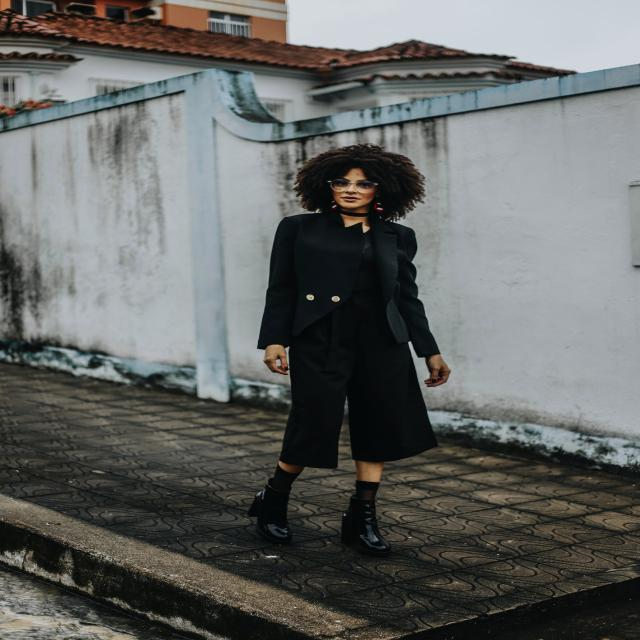adult: (255, 147, 450, 553)
